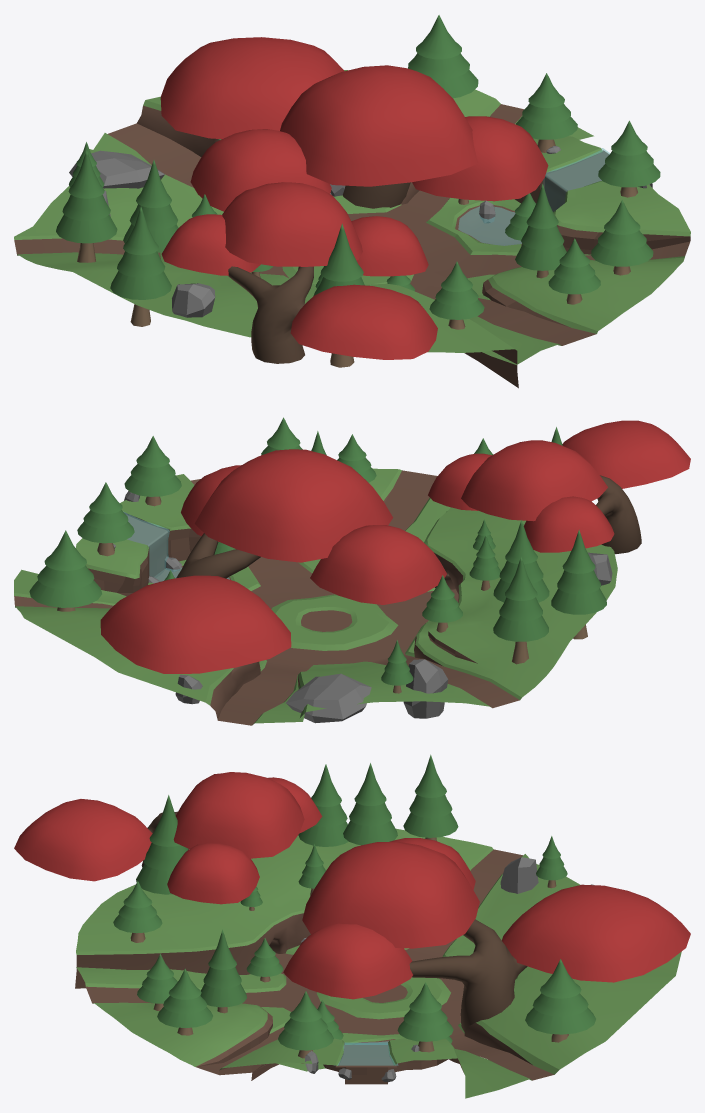
The model's file is SM_Environment.fbx.
The picture shows the model from 3 angles, top to bottom: view 1: azimuth 30°, elevation 25°; view 2: azimuth 150°, elevation 25°; view 3: azimuth 270°, elevation 25°; orthographic projection. The views are drawn at different scales.
Parts seen in each view (by area): view 1: directionalLight2; view 2: directionalLight2; view 3: directionalLight2.
Boxes of the visible parts, x1,y1,x2,y2 form: directionalLight2: (14, 15, 690, 388); directionalLight2: (14, 417, 690, 725); directionalLight2: (14, 754, 690, 1098).
Bounding box in the file's own units: 1785 × 559 × 2076.
